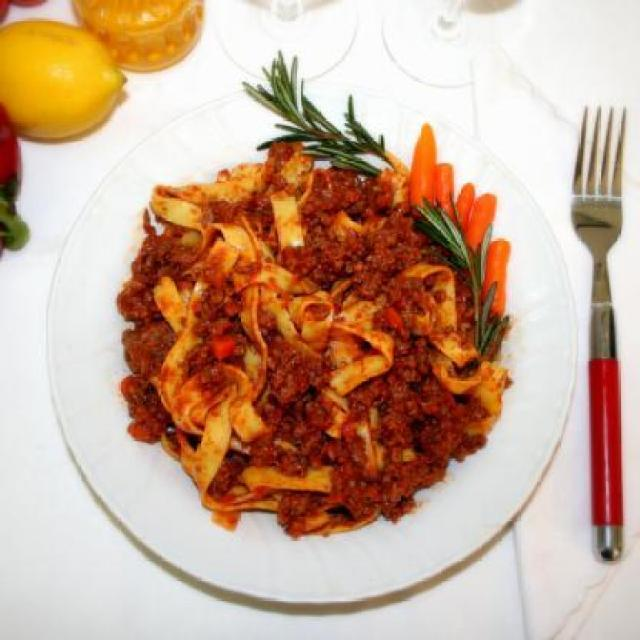Pasta al ragu: (86, 63, 532, 552)
